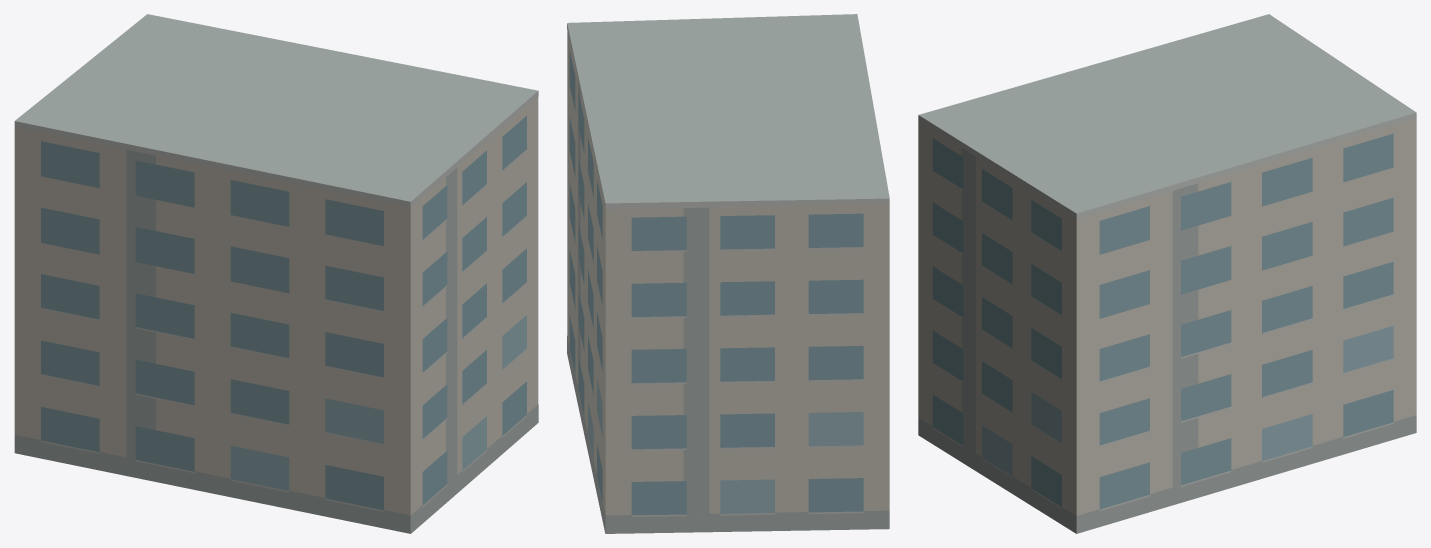
The model's file is survey-upis-32774610.glb.
The picture shows the model from 3 angles, left to right: view 1: azimuth 30°, elevation 25°; view 2: azimuth 150°, elevation 25°; view 3: azimuth 270°, elevation 25°; orthographic projection. The views are drawn at different scales.
Parts seen in each view (by area): view 1: survey-upis-32774610.tmp; view 2: survey-upis-32774610.tmp; view 3: survey-upis-32774610.tmp.
Part boxes in pixels (bbox=[...]): survey-upis-32774610.tmp: bbox=[14, 14, 538, 533]; survey-upis-32774610.tmp: bbox=[567, 14, 889, 533]; survey-upis-32774610.tmp: bbox=[918, 14, 1416, 533].
Bounding box in the file's own units: 18.05 × 13.5 × 19.04.
